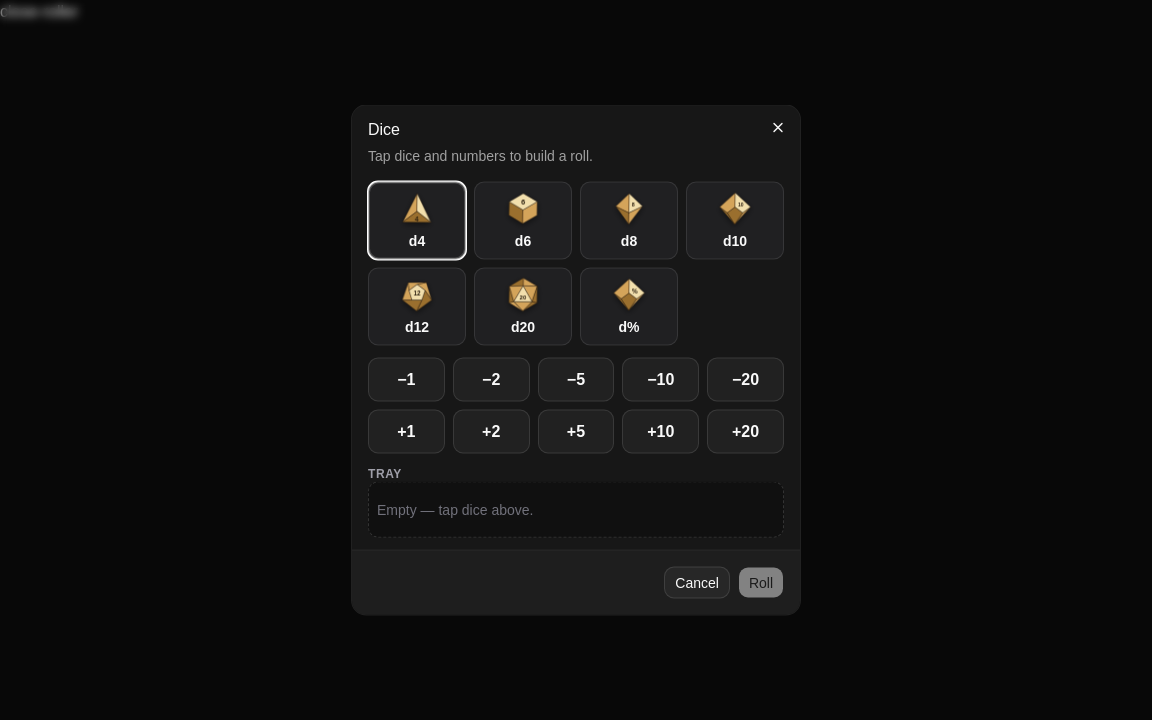
DiceRoller › rolls dice through the 3D engine, closes the picker, and reports dice + total
The image size is (1152, 720).
Click the button named "Add d6": (523, 220) [474,182,572,260]
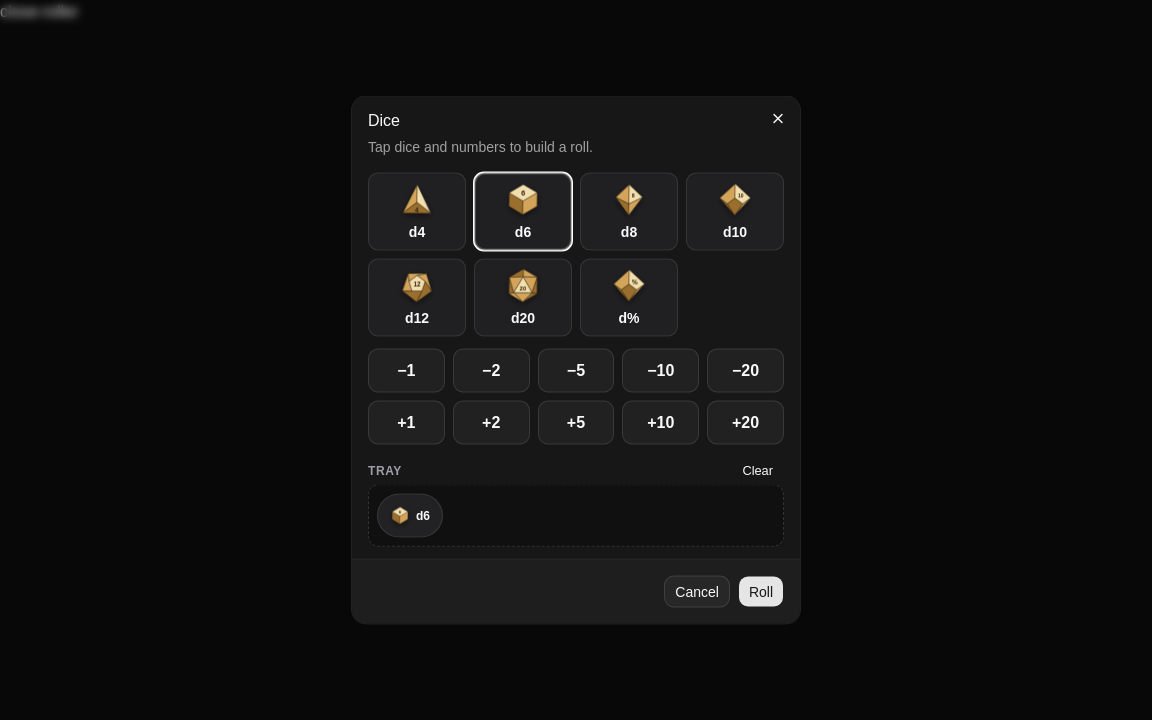
Click the button named "Add d6": (523, 212) [474,172,572,250]
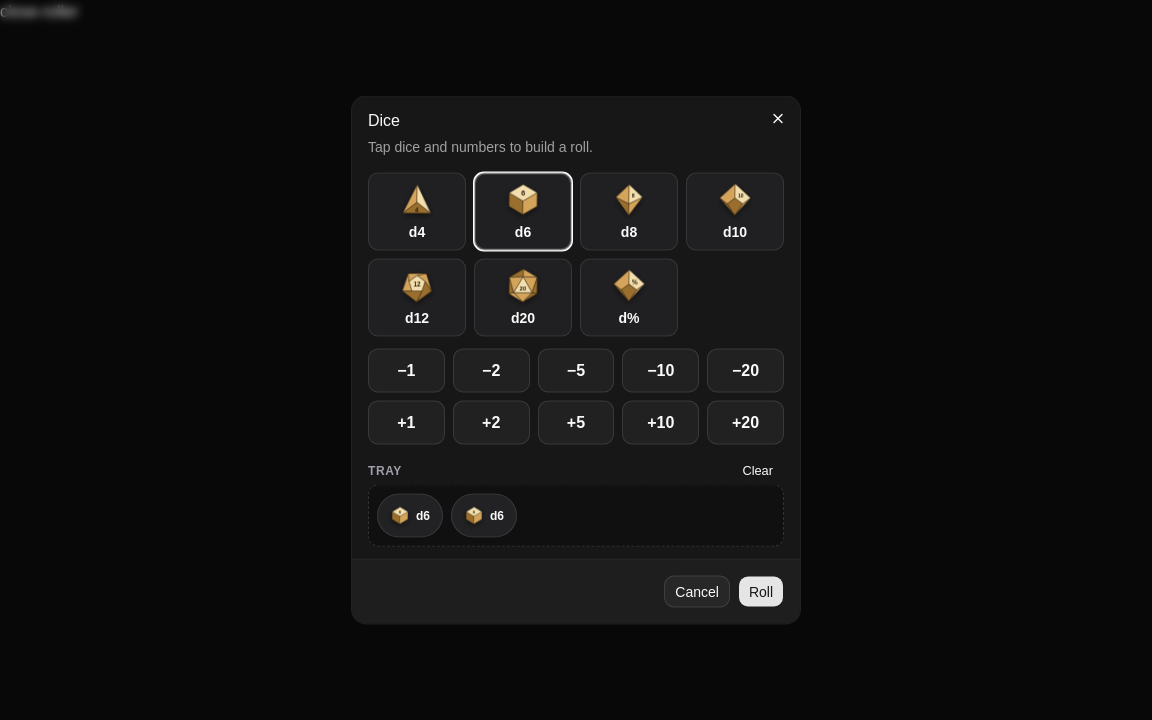
Click the button named "Add 2": (491, 422) [453,400,530,444]
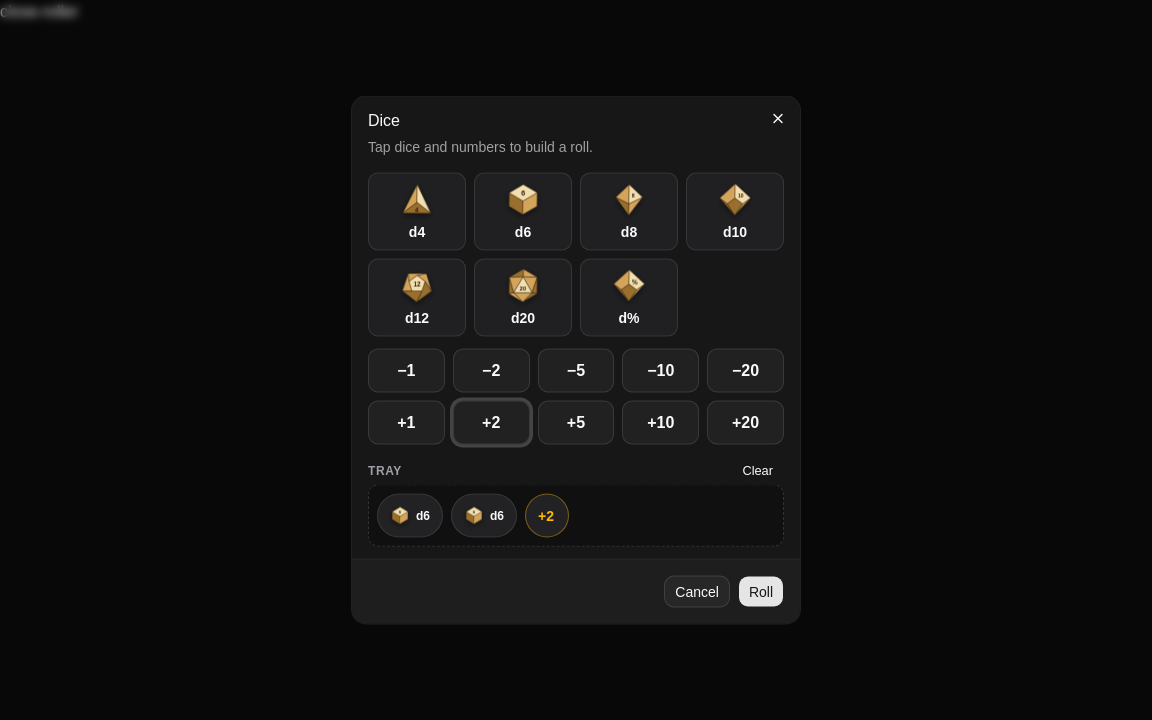
Expected: the button "Roll" is enabled
Click the button "Roll": (761, 592) [738,576,784,608]
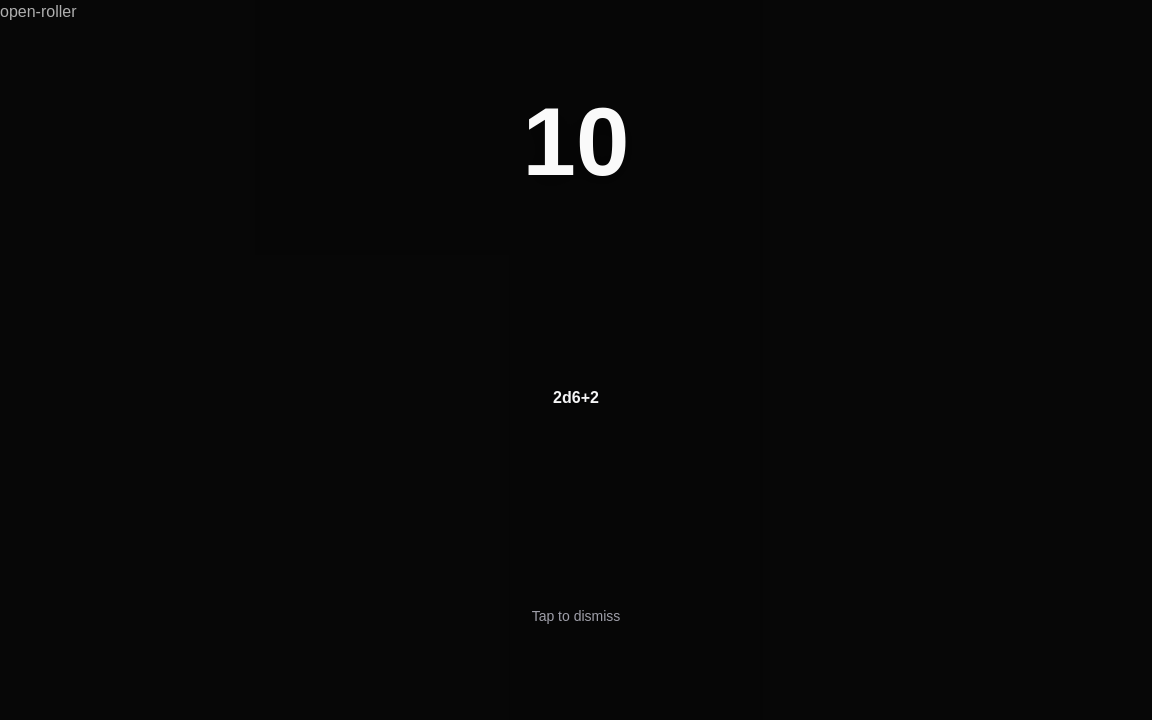
Expected: the button with aria-label "Roll result 10" shows "2d6+2"
